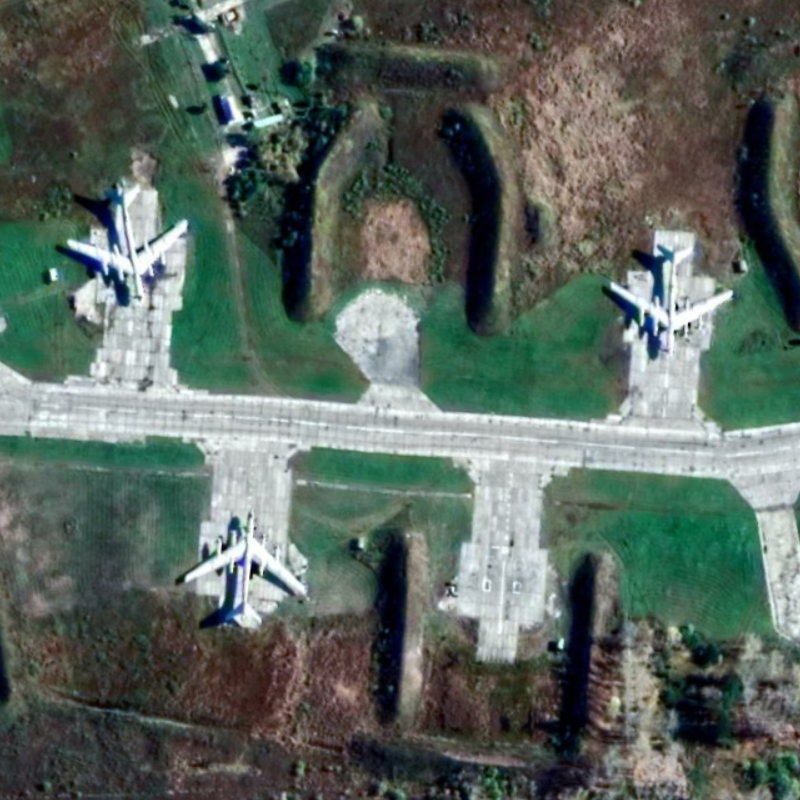A17: (65, 174, 191, 304), (607, 242, 736, 361), (182, 509, 307, 627)
